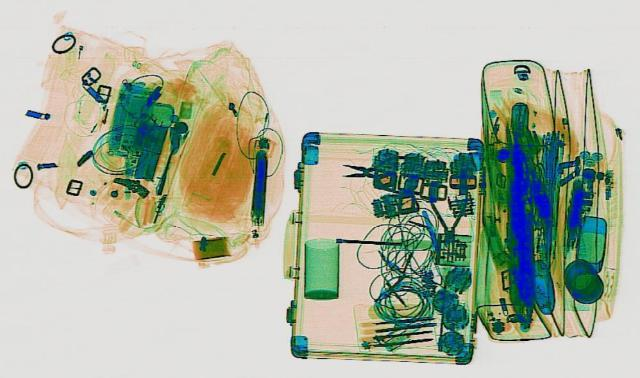Pliers: (427, 192, 469, 245), (338, 153, 404, 186)
